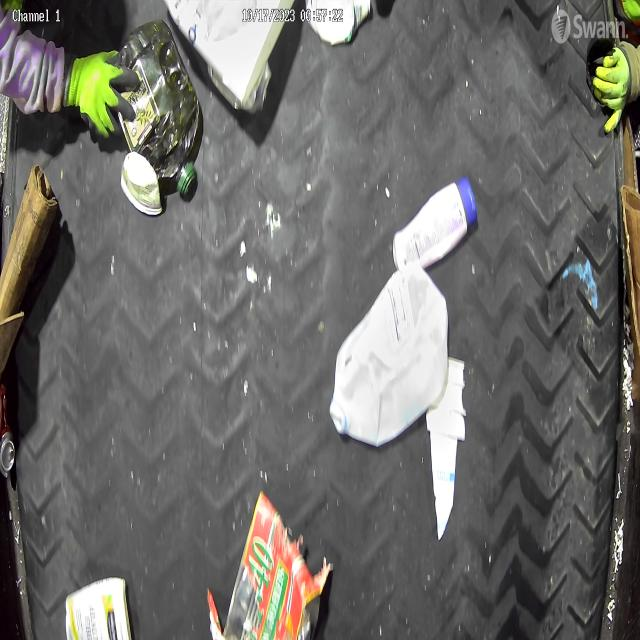can: (222, 489, 322, 640)
milk_jug: (330, 263, 450, 447)
non_white_jug: (116, 20, 200, 197)
